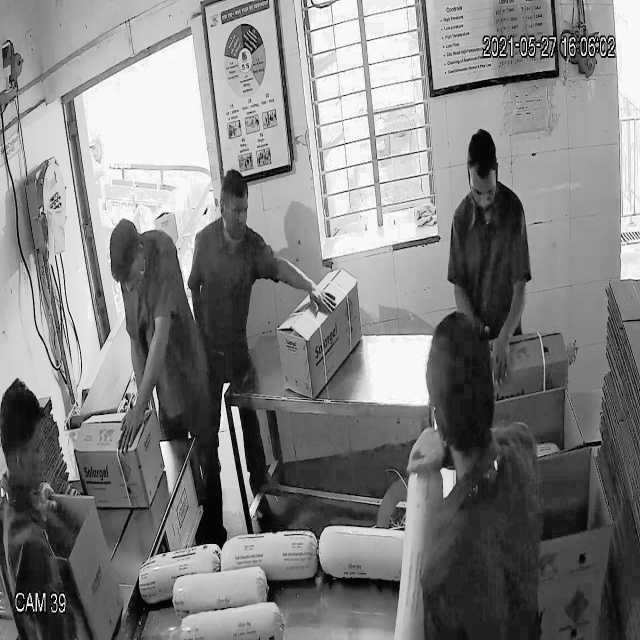Sin_gafas: (467, 175, 502, 208)
